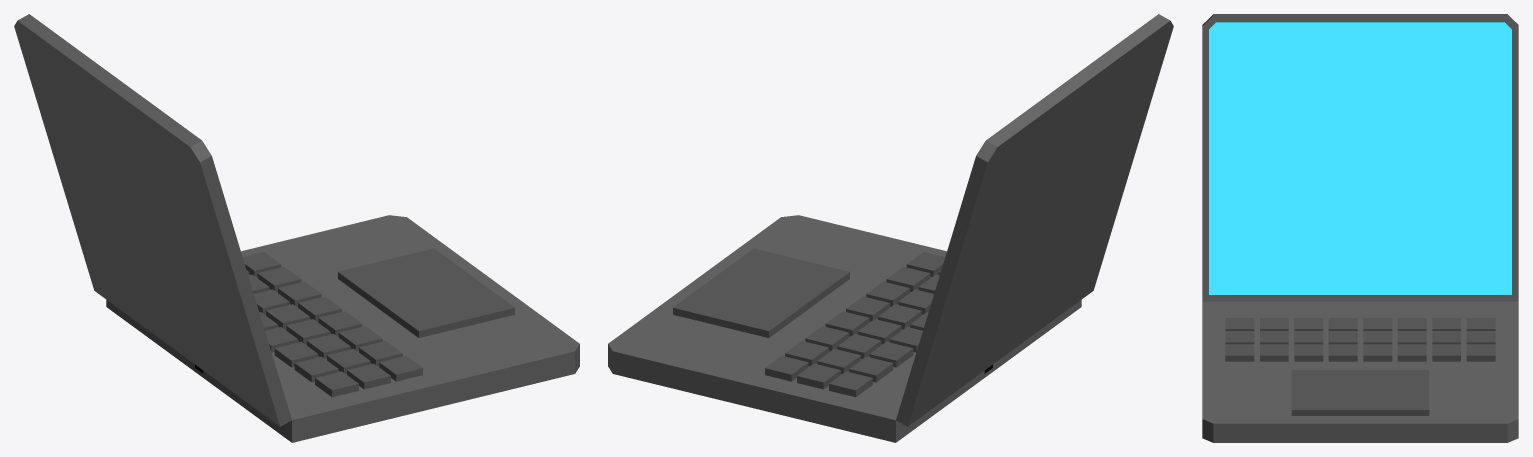
Rendered from Laptop_On_Gray.fbx.
3 renders of one model, left to right at view 1: azimuth 30°, elevation 25°; view 2: azimuth 150°, elevation 25°; view 3: azimuth 270°, elevation 25°, orthographic. The views are drawn at different scales.
Parts seen in each view (by area): view 1: Laprop_main_On_Gray, Laprop_Screen_On_Gray; view 2: Laprop_main_On_Gray, Laprop_Screen_On_Gray; view 3: Laprop_Screen_On_Gray, Laprop_main_On_Gray.
Boxes of the visible parts, x1=… form: Laprop_main_On_Gray: x1=106, y1=215, x2=579, y2=442; Laprop_Screen_On_Gray: x1=14, y1=14, x2=291, y2=426; Laprop_main_On_Gray: x1=608, y1=215, x2=1081, y2=442; Laprop_Screen_On_Gray: x1=896, y1=14, x2=1173, y2=426; Laprop_Screen_On_Gray: x1=1202, y1=14, x2=1518, y2=300; Laprop_main_On_Gray: x1=1202, y1=295, x2=1518, y2=442.
Bounding box in the file's own units: 476 × 372 × 394.
